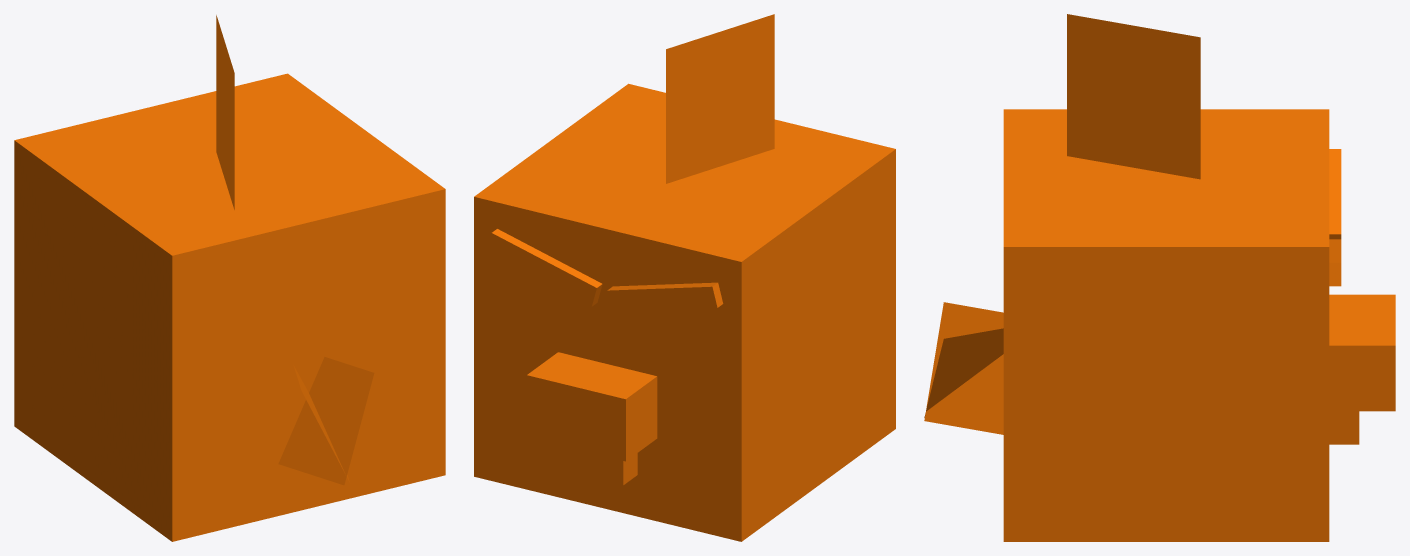
The model's file is bomb_bird_orange.obj.
3 views of the same model, side by side, from view 1: azimuth 30°, elevation 25°; view 2: azimuth 150°, elevation 25°; view 3: azimuth 270°, elevation 25° (orthographic). The views are drawn at different scales.
Parts seen in each view (by area): view 1: cube; view 2: cube; view 3: cube.
Part boxes in pixels (bbox=[...]): cube: bbox=[14, 15, 445, 541]; cube: bbox=[474, 14, 895, 541]; cube: bbox=[924, 14, 1395, 541].
Bounding box in the file's own units: 1.69 × 2.5 × 2.44.
